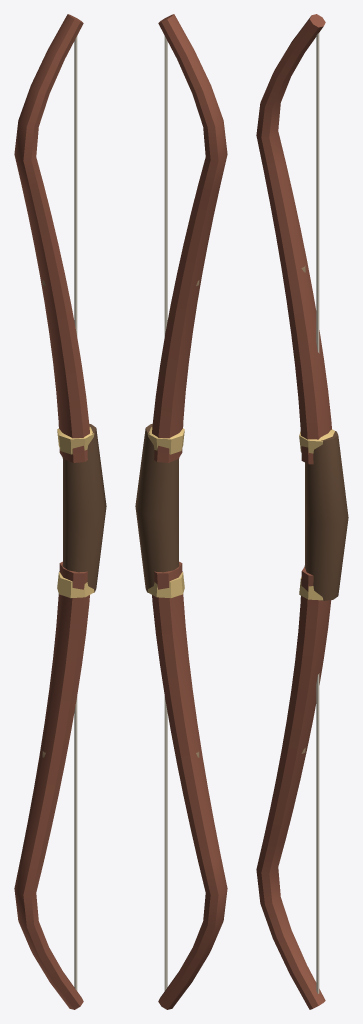
The model's file is recurve_bow.glb.
3 views of the same model, side by side, from view 1: azimuth 30°, elevation 25°; view 2: azimuth 150°, elevation 25°; view 3: azimuth 330°, elevation 25° (orthographic).
Parts seen in each view (by area): view 1: recurve_bow; view 2: recurve_bow; view 3: recurve_bow.
Part boxes in pixels (<box>): recurve_bow: <box>14,14,106,1009</box>; recurve_bow: <box>135,14,227,1009</box>; recurve_bow: <box>256,14,348,1009</box>.
Size of the model in its own units: 0.1145 by 1.25 by 0.044.
